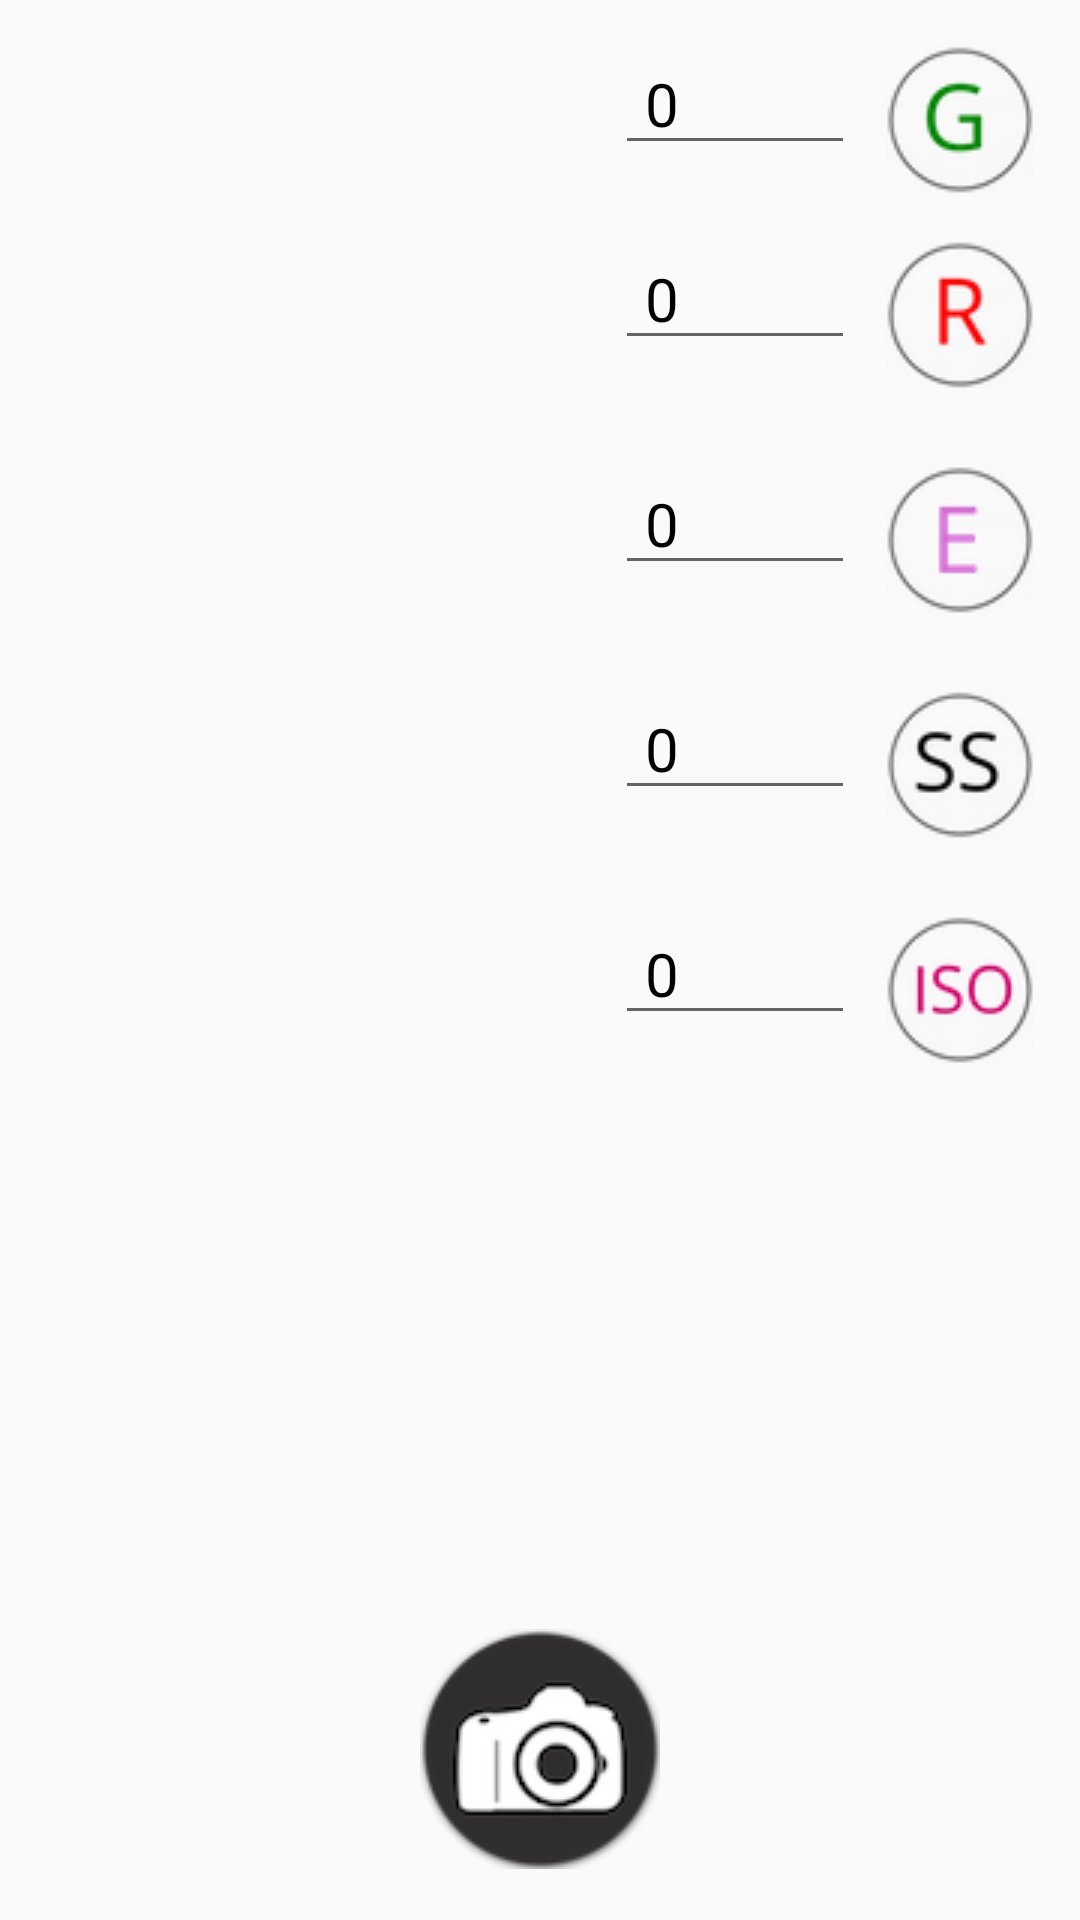

Point at icon controls on the screen. Image size 1080 × 1920, points as (x=x, y=y).
camera: (x=540, y=1750)
